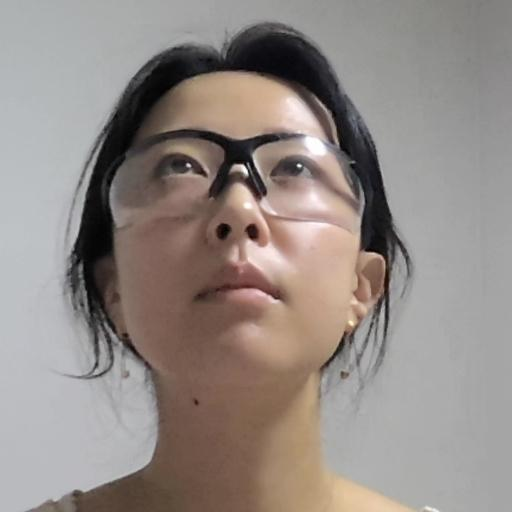glasses: (71, 31, 402, 417)
